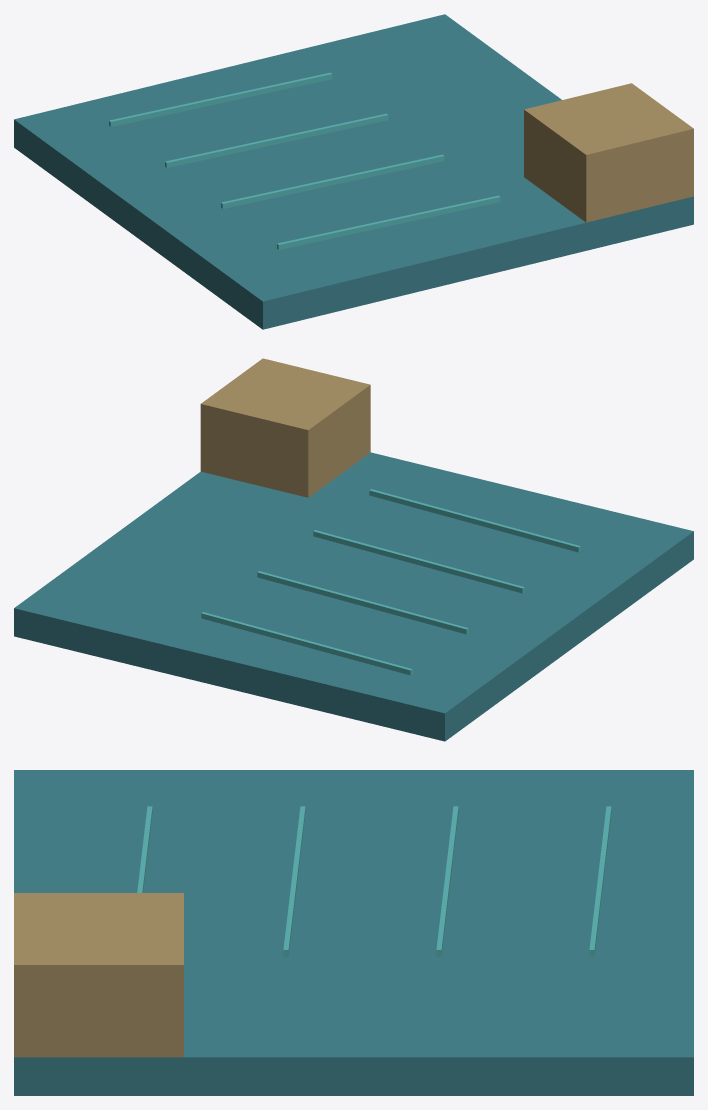
Rendered from terrain-river-fork.lod0.glb.
The picture shows the model from 3 angles, top to bottom: view 1: azimuth 30°, elevation 25°; view 2: azimuth 150°, elevation 25°; view 3: azimuth 270°, elevation 25°; orthographic projection. The views are drawn at different scales.
Visible parts, largest first — view 1: terrain-river-fork__body; view 2: terrain-river-fork__body; view 3: terrain-river-fork__body.
Part boxes in pixels (x1=…): terrain-river-fork__body: x1=14, y1=14, x2=693, y2=329; terrain-river-fork__body: x1=14, y1=358, x2=693, y2=741; terrain-river-fork__body: x1=14, y1=770, x2=693, y2=1095.
Size of the model in its own units: 2 by 0.425 by 2.
